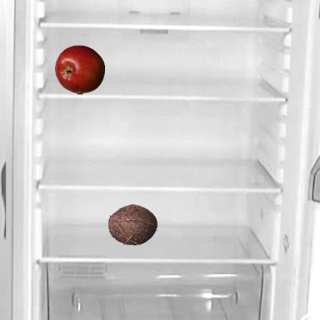Apple Braeburn: (54, 44, 104, 94)
Cocos: (107, 199, 157, 249)
